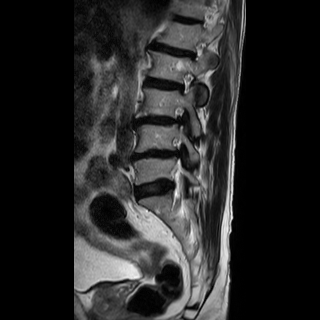RFS0: (173, 67, 199, 99)
